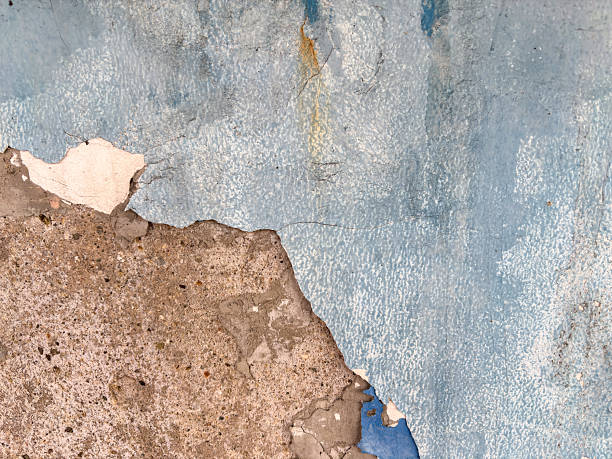wall_peeling: (0, 139, 423, 459)
